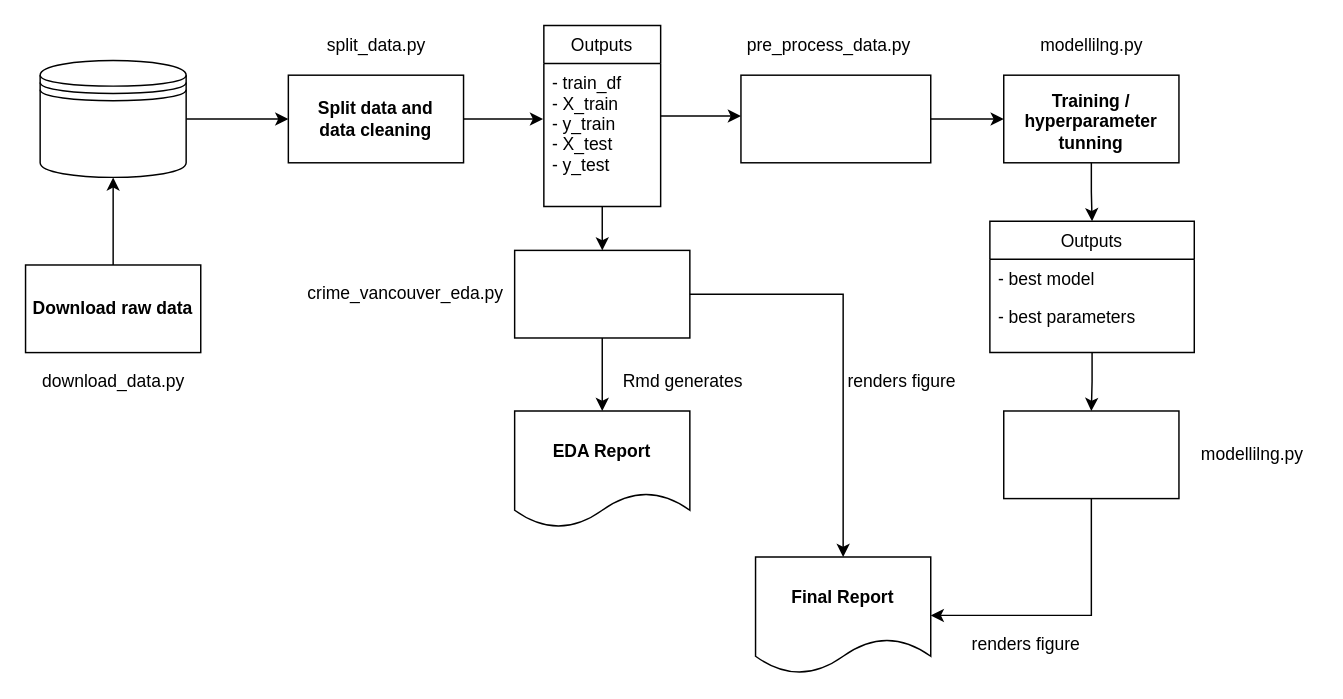
The diagram is 1343 pixels wide and 699 high, and some of its shapes have lost their labels. The centre of each missing label's shape, as x and y in pixels:
"Create column transformation object" goes at point 835,118.
"EDA" goes at point 601,293.
"Raw Data" goes at point 112,118.
"Score and predict on X_test" goes at point 1090,454.
